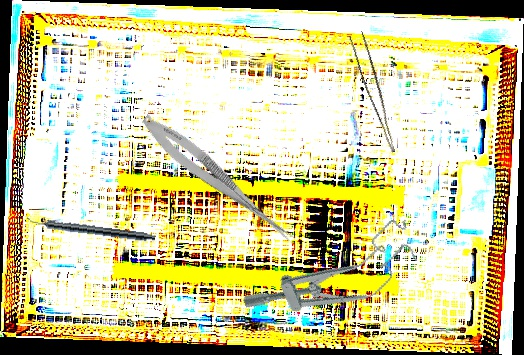Handpiece: (25, 215, 157, 243)
Micro Scissor: (135, 109, 304, 249)
Speculum: (237, 215, 428, 343)
Tissue Forceps: (345, 31, 409, 153)
